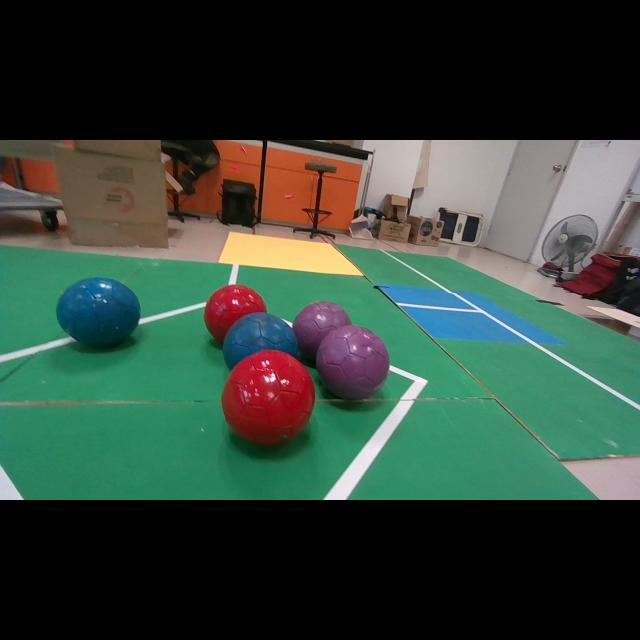B: (56, 278, 141, 346), (224, 312, 298, 369)
P: (318, 325, 389, 398), (292, 301, 351, 360)
R: (222, 350, 315, 445), (204, 285, 266, 342)
